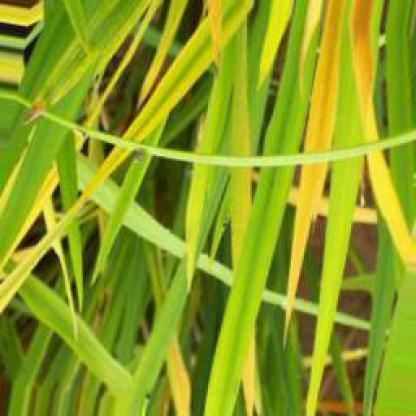Tungro: (3, 6, 245, 310), (269, 11, 352, 344), (347, 4, 415, 271), (237, 330, 262, 416), (172, 336, 198, 416)
